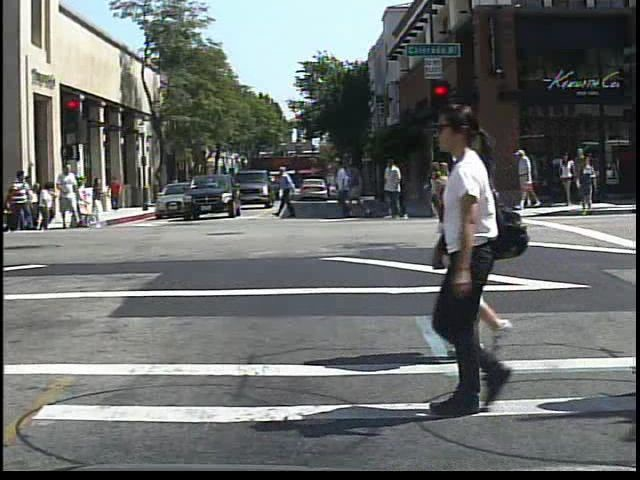person: (409, 106, 544, 418), (420, 116, 511, 358), (54, 162, 84, 231), (9, 164, 34, 234), (517, 143, 540, 209), (106, 175, 126, 214), (167, 172, 185, 205)
